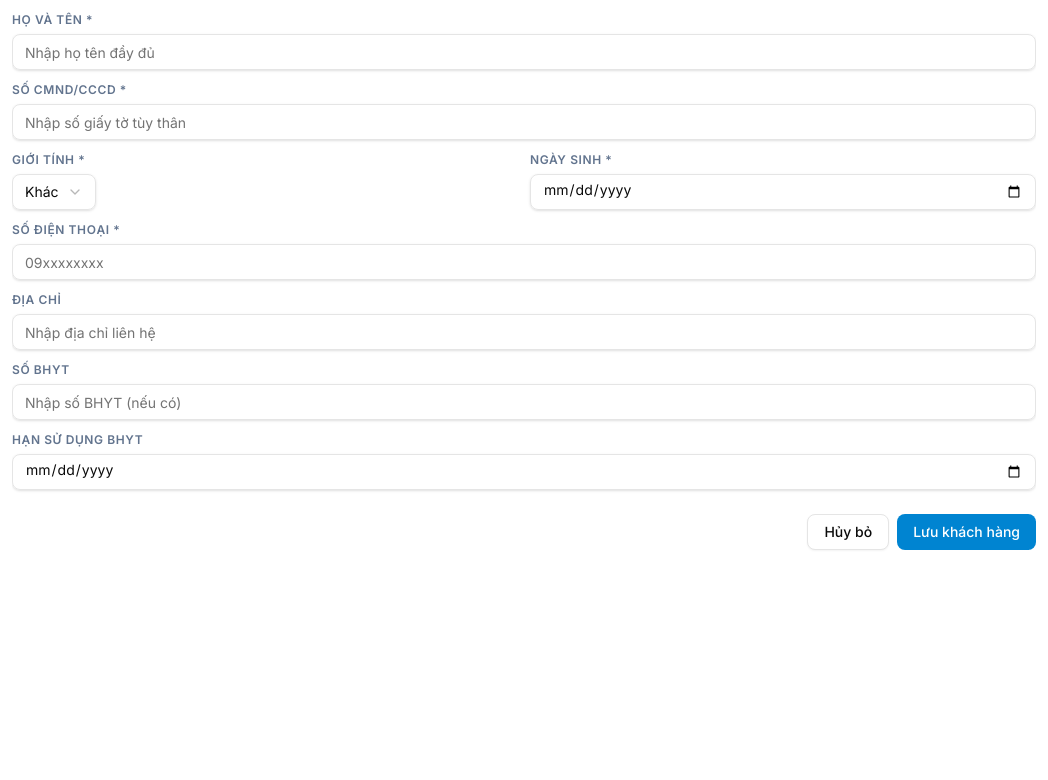
Scenario: ClientForm current address integration › does not submit when Enter selects the active address suggestion
Type "Nguyễn Văn A" into the field with id "name" at (524, 52), box [12,34,1036,70]
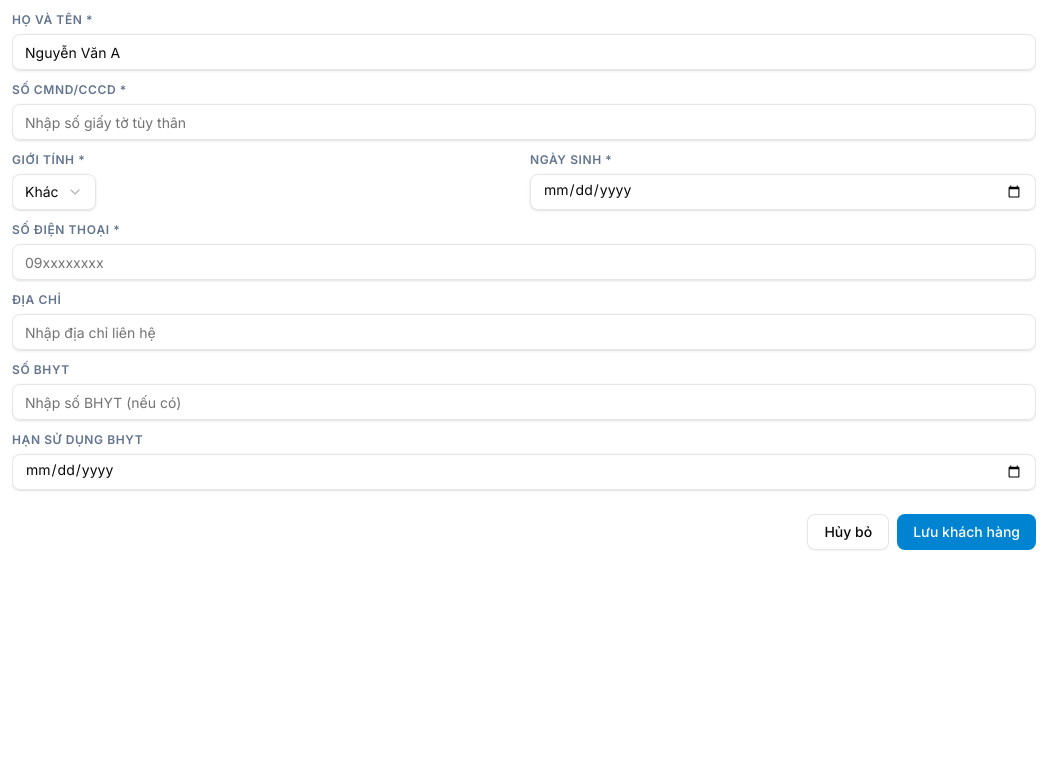
Type "012345678901" into the field with id "id_card_num" at (524, 122), box [12,104,1036,140]
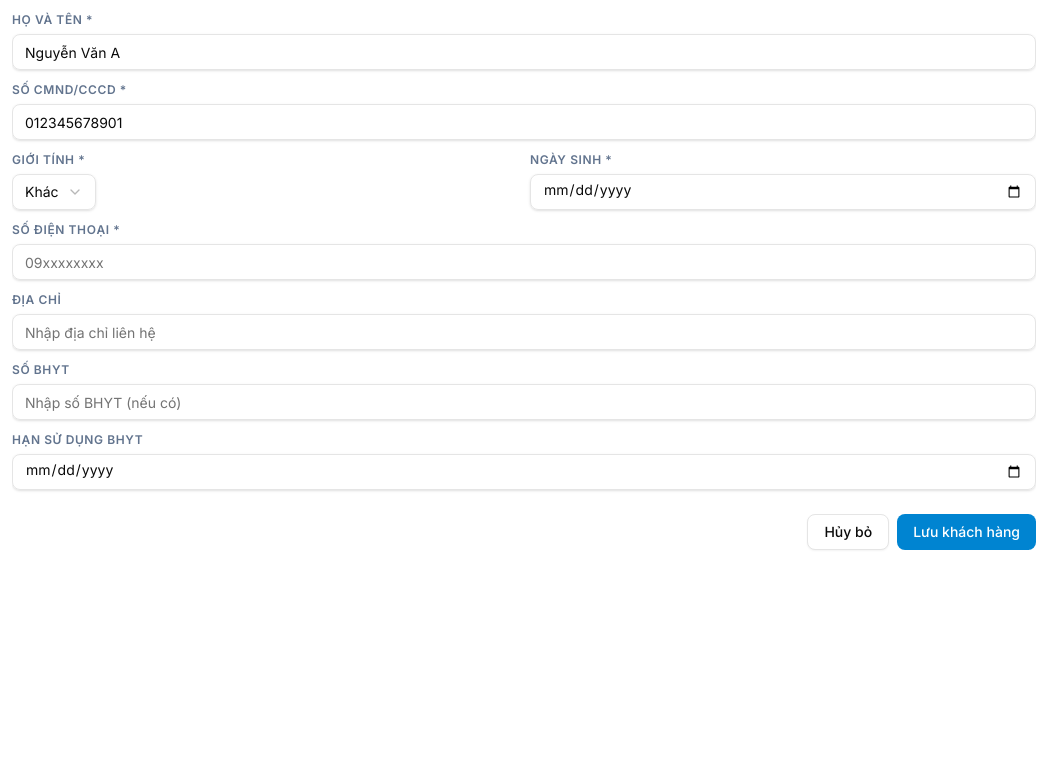
Type "1990-01-02" into the date field with id "date_of_birth" at (783, 192), box [530,174,1036,210]
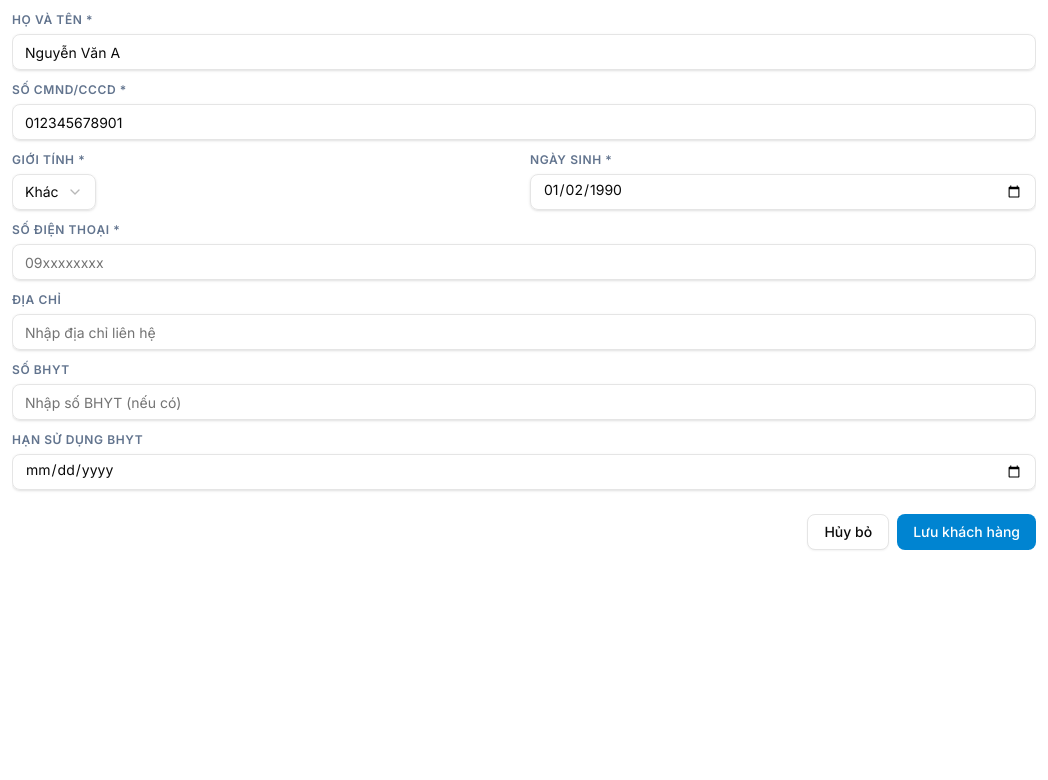
Type "0912345678" into the field labelled "Số điện thoại *" at (524, 262), box [12,244,1036,280]
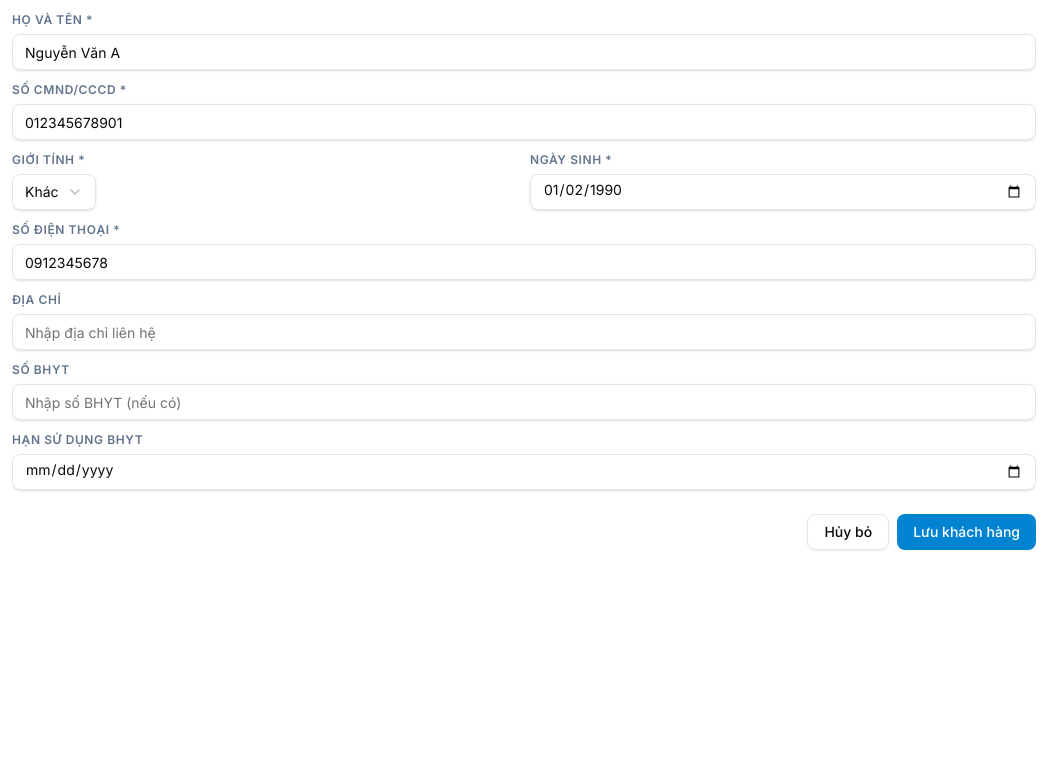
Type "Ba Dinh" into the dropdown with placeholder "Nhập địa chỉ liên hệ" at (524, 332), box [12,314,1036,350]
Wait 350 ms
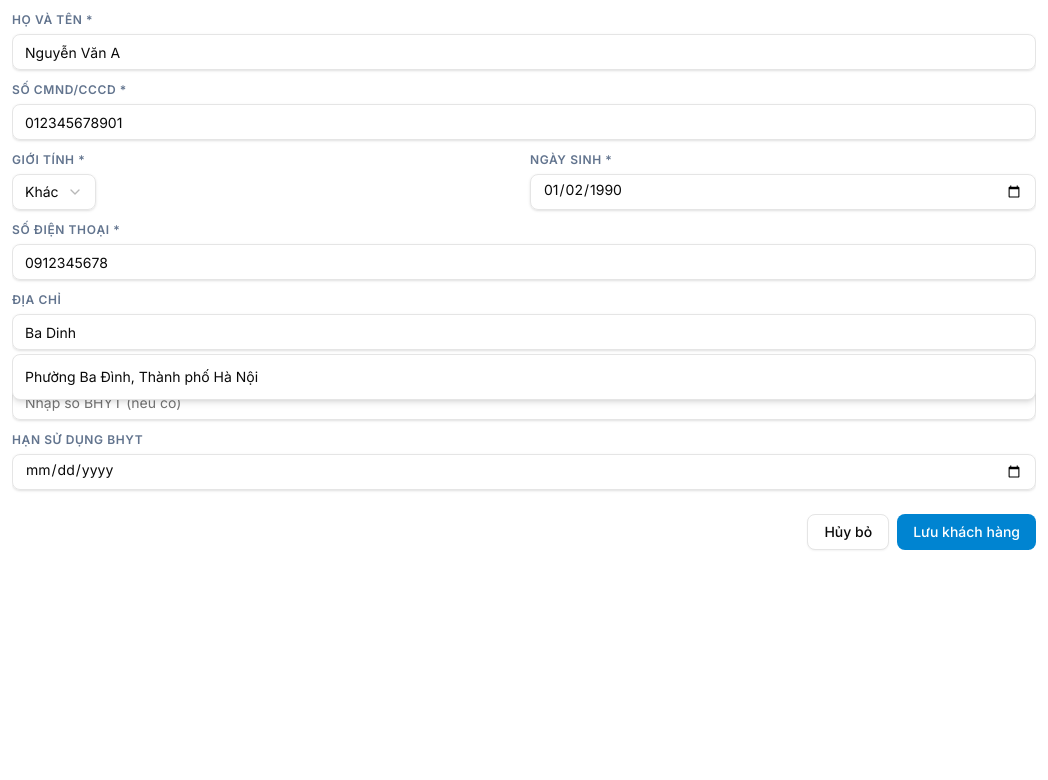
Press ArrowDown in the dropdown with placeholder "Nhập địa chỉ liên hệ", box [12,314,1036,350]
Press Enter in the dropdown with placeholder "Nhập địa chỉ liên hệ", box [12,314,1036,350]
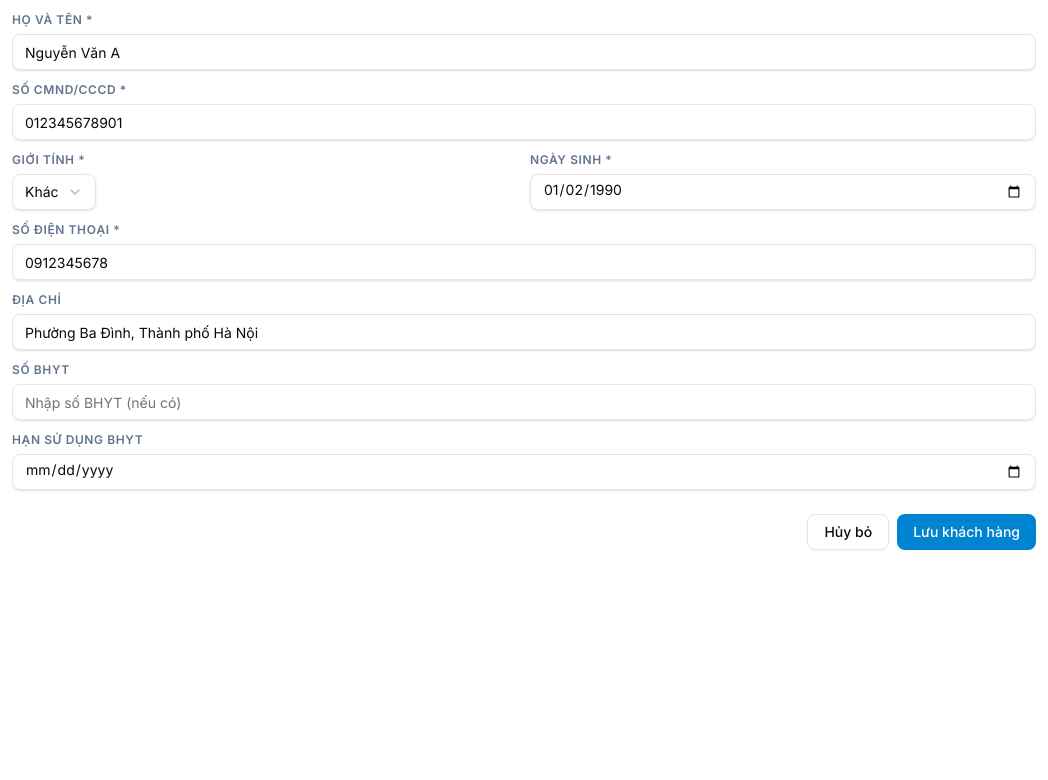
expect the dropdown with placeholder "Nhập địa chỉ liên hệ" holds "Phường Ba Đình, Thành phố Hà Nội": met, box [12,314,1036,350]
